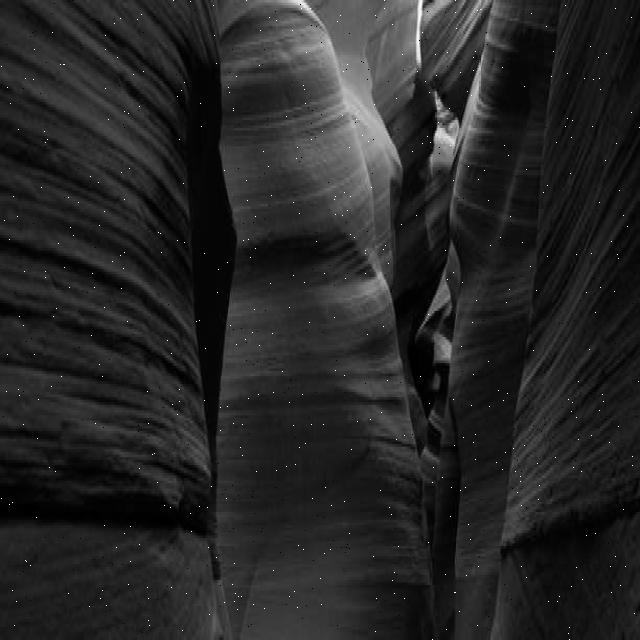Sedimentary: (1, 2, 639, 638)
